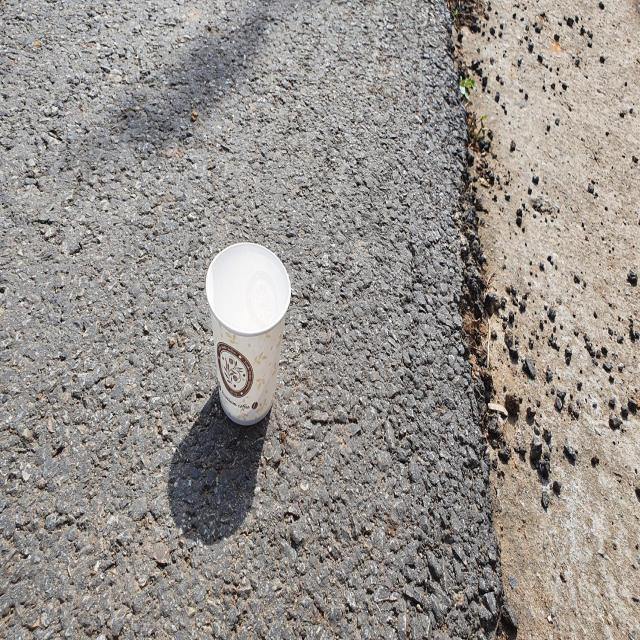paperpack: (205, 242, 291, 425)
